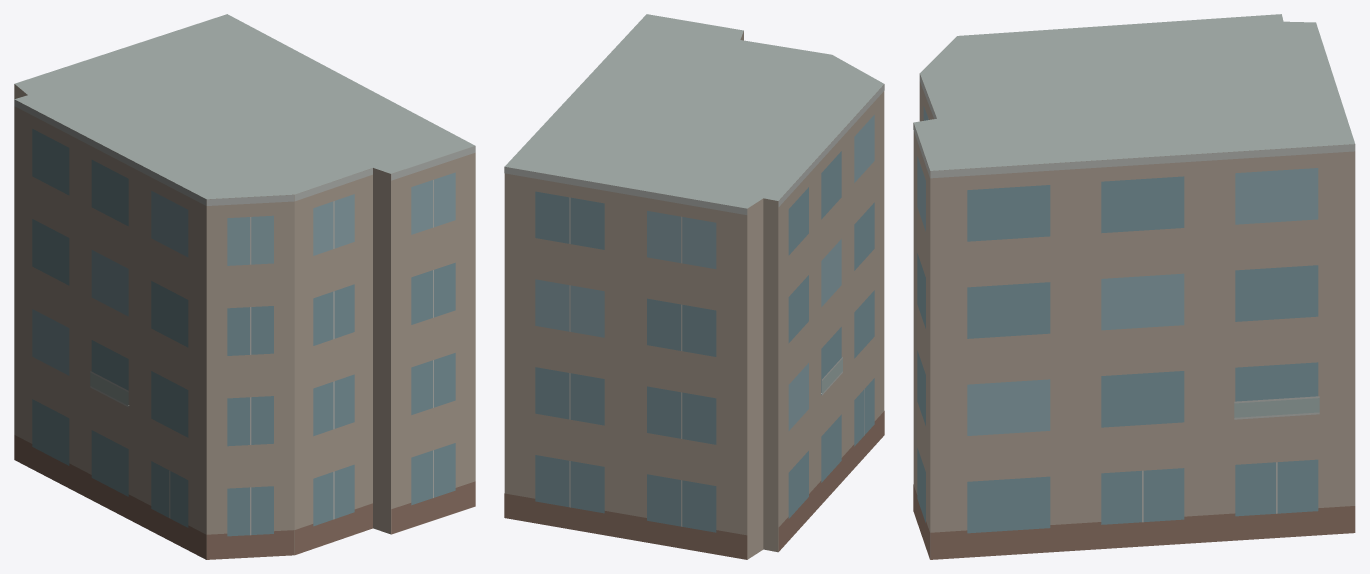
Rendered from survey-upis-32533167.glb.
3 renders of one model, left to right at view 1: azimuth 30°, elevation 25°; view 2: azimuth 150°, elevation 25°; view 3: azimuth 270°, elevation 25°, orthographic. The views are drawn at different scales.
Visible parts, largest first — view 1: survey-upis-32533167.tmp; view 2: survey-upis-32533167.tmp; view 3: survey-upis-32533167.tmp.
Boxes of the visible parts, x1,y1,x2,y2 form: survey-upis-32533167.tmp: [14, 14, 475, 559]; survey-upis-32533167.tmp: [504, 14, 884, 559]; survey-upis-32533167.tmp: [913, 14, 1355, 559].
Bounding box in the file's own units: 11.18 × 12.9 × 13.29.
